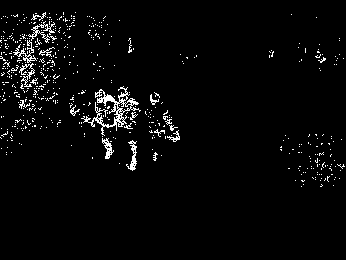person: (146, 85, 185, 183), (114, 81, 142, 179), (92, 85, 117, 170)
